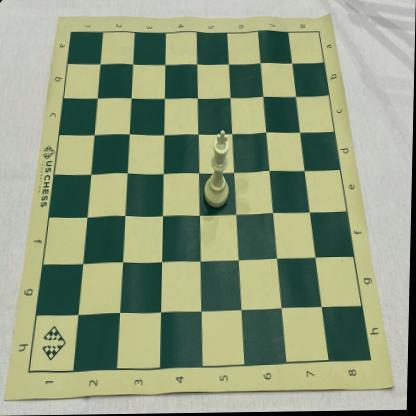white-king: (204, 130, 232, 209)
